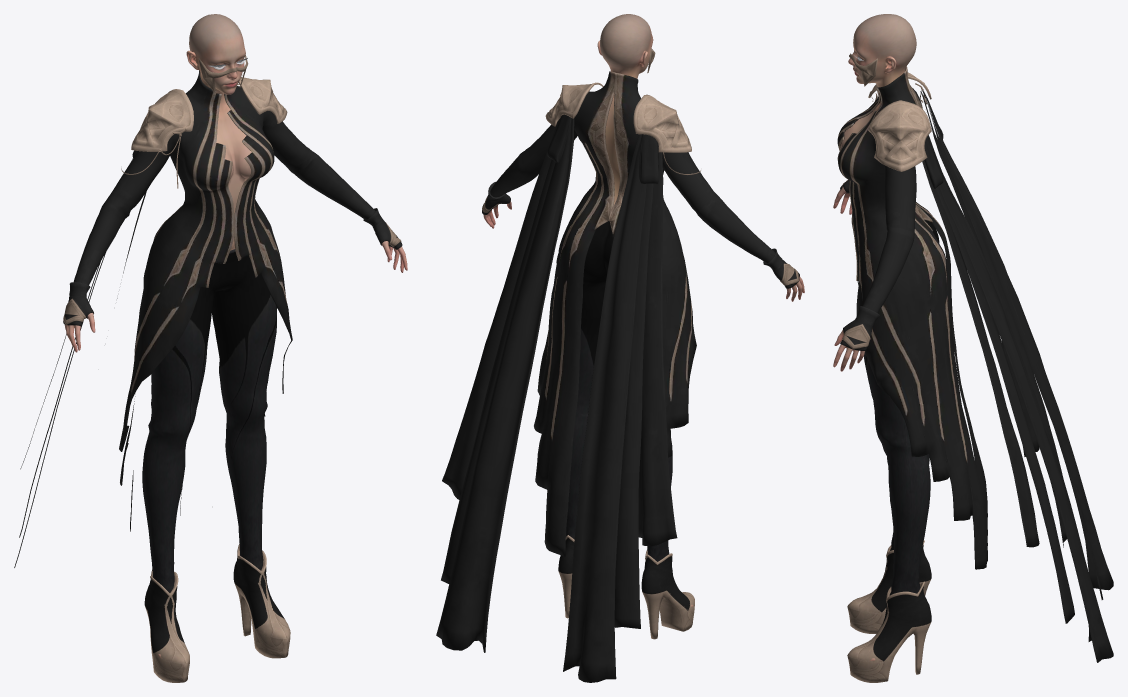
3 renders of one model, left to right at view 1: azimuth 30°, elevation 25°; view 2: azimuth 150°, elevation 25°; view 3: azimuth 270°, elevation 25°, orthographic. The views are drawn at different scales.
Parts seen in each view (by area): view 1: GF_0099_T03_Body, GF_0099_T03_Pants, GF_0099_T03_Boots, GF_0099_T03_Shoulder, GF_BaseHead, GF_0099_T03_Glove, GF_0099_T03_Cape; view 2: GF_0099_T03_Cape, GF_0099_T03_Body, GF_0099_T03_Pants, GF_0099_T03_Boots, GF_0099_T03_Shoulder, GF_BaseHead, GF_0099_T03_Glove; view 3: GF_0099_T03_Body, GF_0099_T03_Cape, GF_0099_T03_Pants, GF_0099_T03_Boots, GF_0099_T03_Shoulder, GF_BaseHead, GF_0099_T03_Glove.
Boxes of the visible parts, bbox=[...] form: GF_0099_T03_Body: bbox=[64, 70, 407, 531]; GF_0099_T03_Pants: bbox=[142, 249, 277, 658]; GF_0099_T03_Boots: bbox=[144, 543, 290, 682]; GF_0099_T03_Shoulder: bbox=[121, 77, 287, 188]; GF_BaseHead: bbox=[186, 14, 247, 103]; GF_0099_T03_Glove: bbox=[63, 208, 402, 326]; GF_0099_T03_Cape: bbox=[14, 84, 239, 567]; GF_0099_T03_Cape: bbox=[436, 114, 677, 682]; GF_0099_T03_Body: bbox=[483, 71, 804, 556]; GF_0099_T03_Pants: bbox=[566, 221, 693, 606]; GF_0099_T03_Boots: bbox=[558, 535, 694, 639]; GF_0099_T03_Shoulder: bbox=[545, 82, 700, 174]; GF_BaseHead: bbox=[597, 14, 653, 78]; GF_0099_T03_Glove: bbox=[482, 182, 799, 288]; GF_0099_T03_Body: bbox=[833, 66, 987, 569]; GF_0099_T03_Cape: bbox=[915, 83, 1113, 662]; GF_0099_T03_Pants: bbox=[863, 220, 939, 660]; GF_0099_T03_Boots: bbox=[847, 540, 931, 682]; GF_0099_T03_Shoulder: bbox=[868, 72, 931, 171]; GF_BaseHead: bbox=[848, 14, 916, 87]; GF_0099_T03_Glove: bbox=[840, 179, 879, 350].
Size of the model in its own units: 1.03 by 1.88 by 0.749.
Materials: 10 (9 with a texture image).
